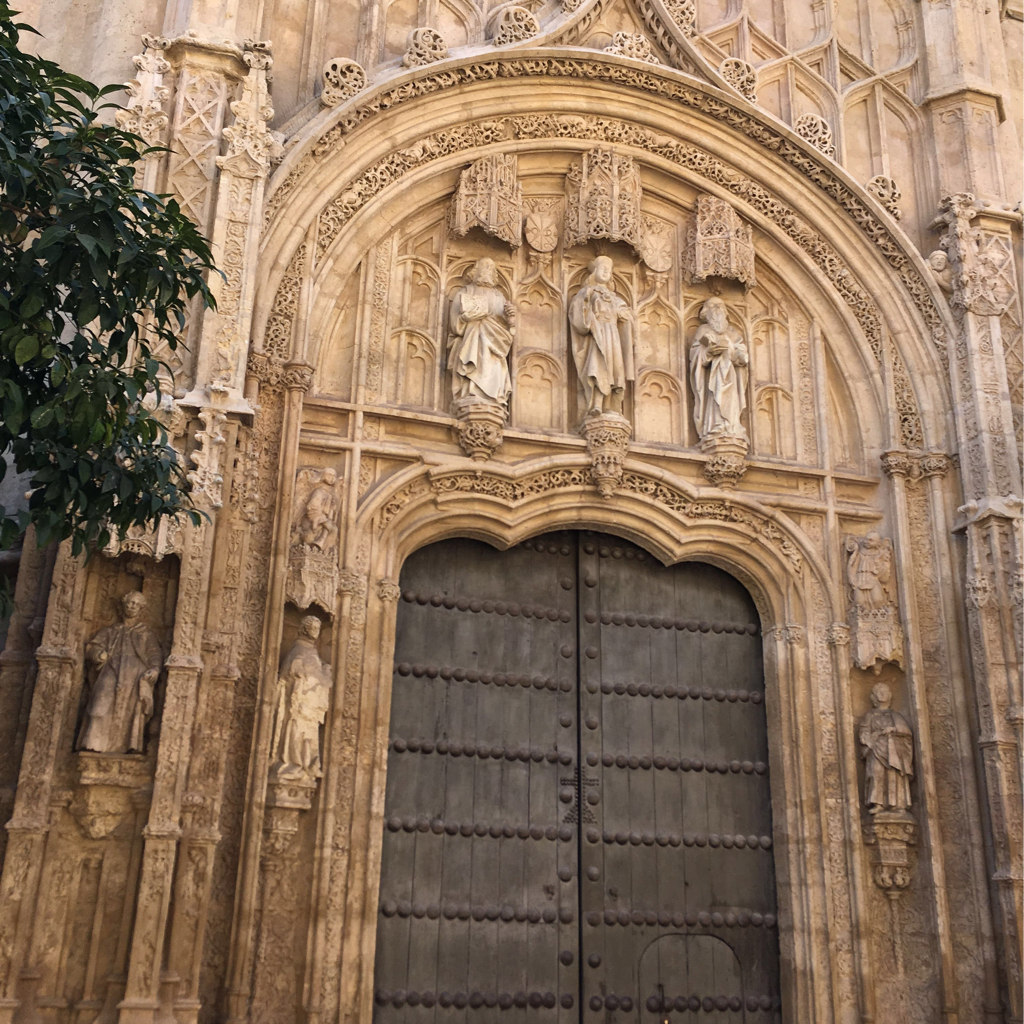arco-conopial: (341, 1, 781, 124)
arco-trilobulado: (365, 457, 789, 622)
